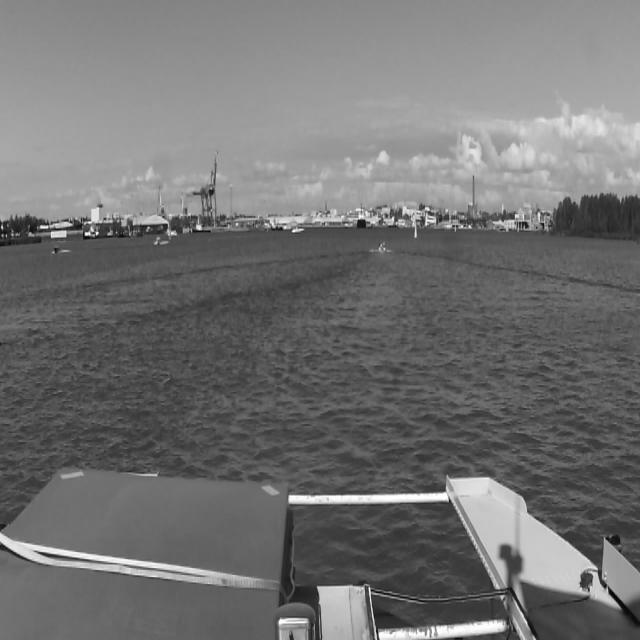buoy: (415, 220, 417, 238)
ship: (358, 204, 366, 228), (50, 243, 58, 255), (153, 236, 161, 244), (379, 242, 385, 252)
